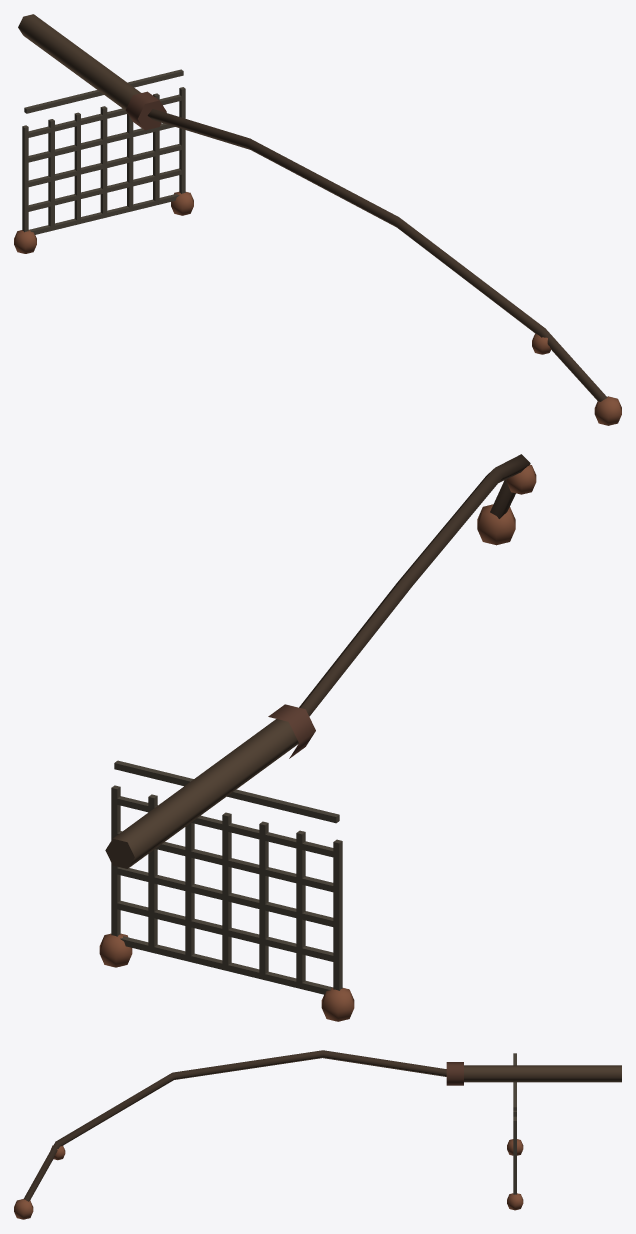
The picture shows the model from 3 angles, top to bottom: view 1: azimuth 30°, elevation 25°; view 2: azimuth 150°, elevation 25°; view 3: azimuth 270°, elevation 25°; orthographic projection. The views are drawn at different scales.
Parts seen in each view (by area): view 1: raider_weapon_net_whip; view 2: raider_weapon_net_whip; view 3: raider_weapon_net_whip.
Part boxes in pixels (x1,y1,x2,y2): raider_weapon_net_whip: [14, 14, 621, 425]; raider_weapon_net_whip: [99, 454, 536, 1021]; raider_weapon_net_whip: [14, 1050, 621, 1219].
Bounding box in the file's own units: 0.498 × 0.3522 × 1.42.
